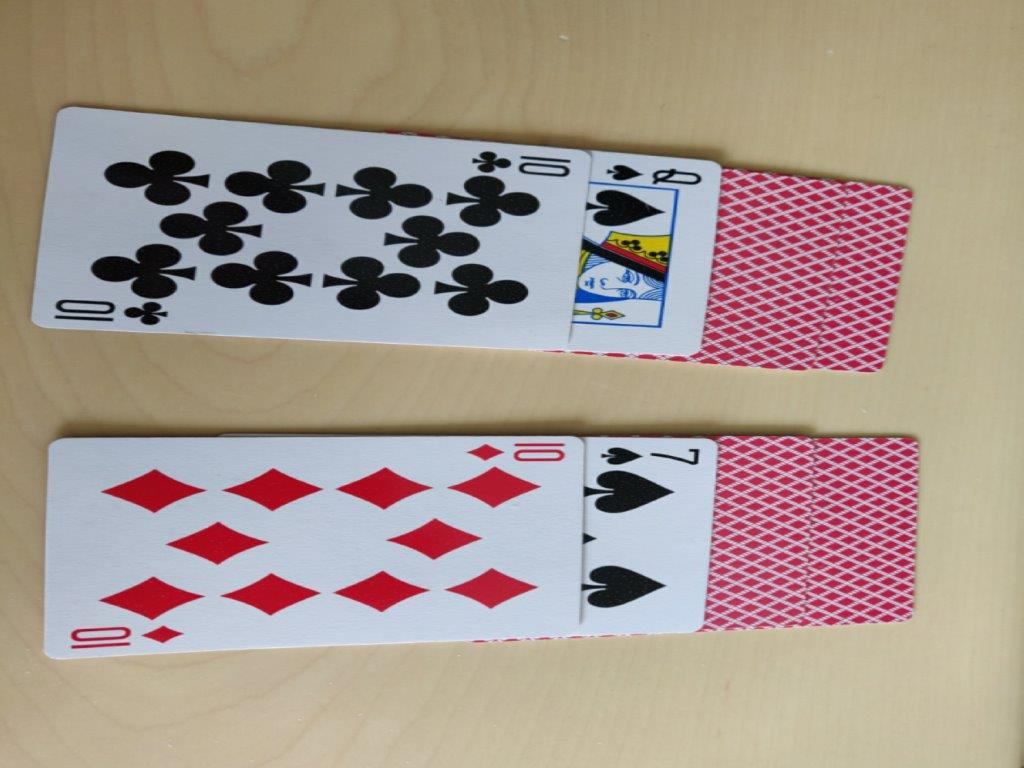10C: (47, 107, 573, 359)
10D: (39, 434, 587, 655)
7S: (578, 432, 712, 641)
BACK: (811, 426, 920, 627), (715, 159, 816, 372), (711, 432, 812, 637), (825, 172, 918, 384)
QS: (578, 149, 711, 366)
